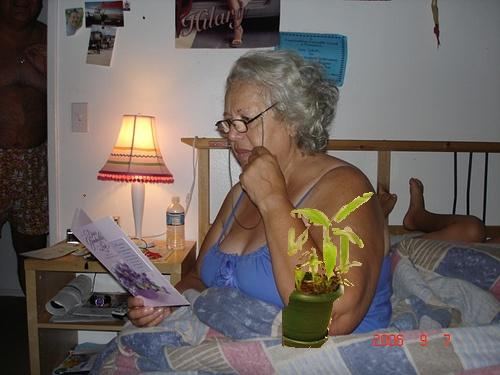tampered: (84, 193, 374, 348)
